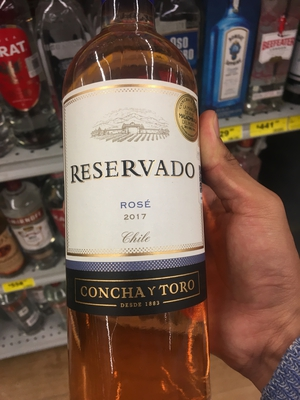reservado rose: (60, 11, 211, 383)
